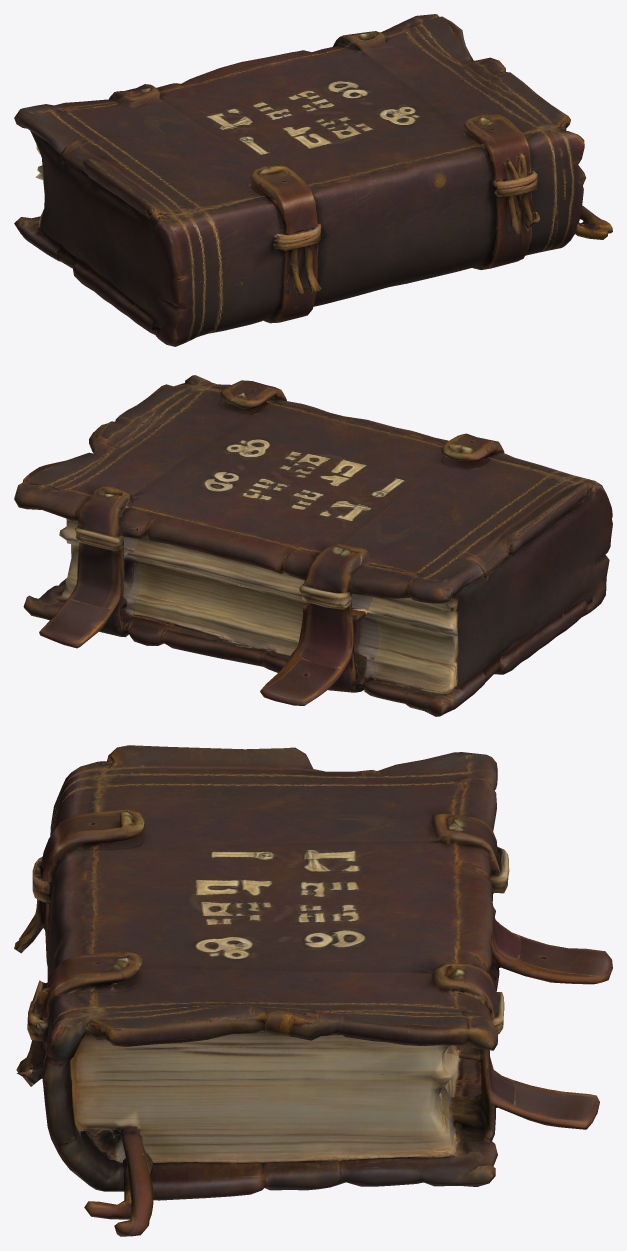
File: give_me_a_small_book__0810195535_texture.fbx
The picture shows the model from 3 angles, top to bottom: view 1: azimuth 30°, elevation 25°; view 2: azimuth 150°, elevation 25°; view 3: azimuth 270°, elevation 25°; orthographic projection. The views are drawn at different scales.
Parts seen in each view (by area): view 1: Mesh1.0; view 2: Mesh1.0; view 3: Mesh1.0.
Part boxes in pixels (box(x1,y1,x2,y2)): Mesh1.0: box(14, 14, 612, 346); Mesh1.0: box(14, 375, 612, 716); Mesh1.0: box(14, 745, 612, 1236).
Bounding box in the file's own units: 200 × 61.49 × 166.
Materials: 1 (1 with a texture image).
